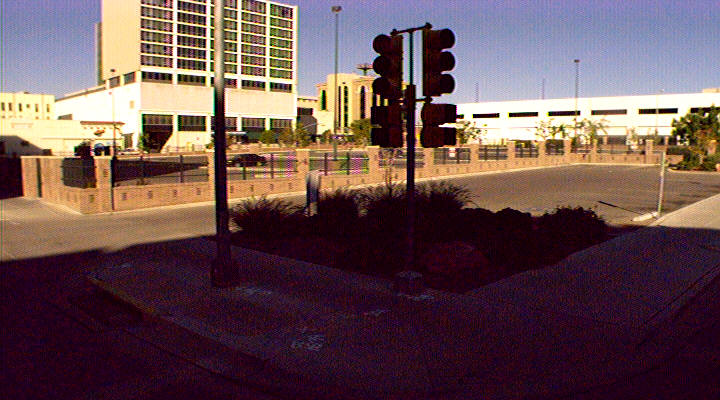Ramp: (326, 304, 632, 396)
